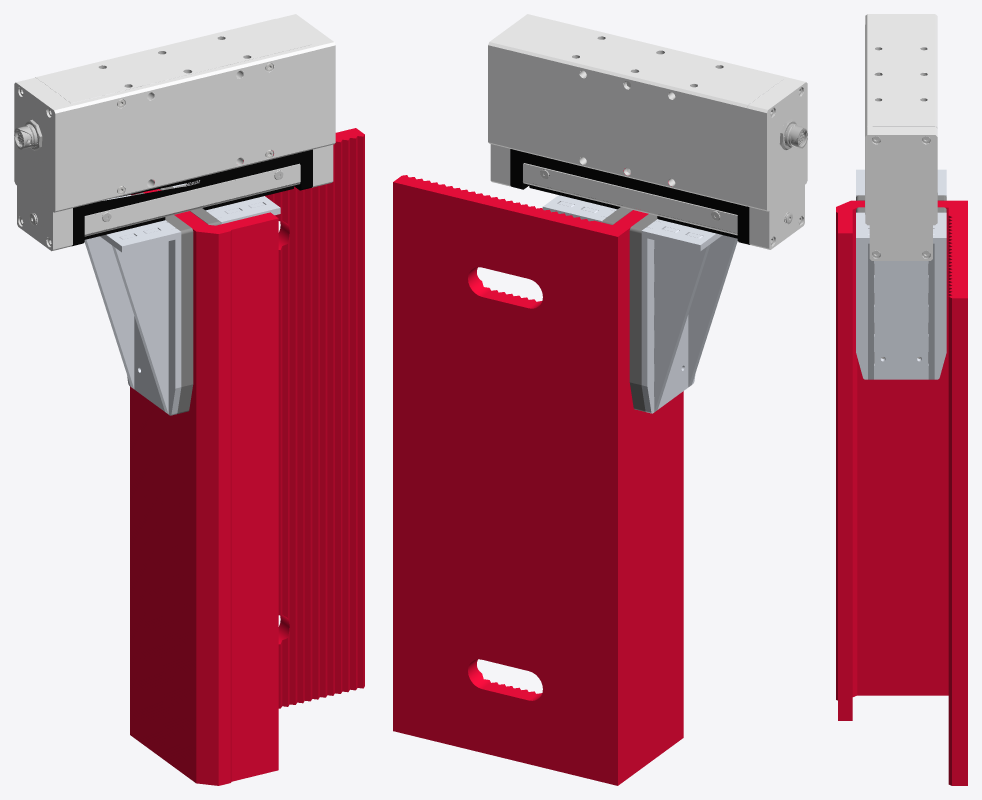
The model's file is RaiseGripper.glb.
The picture shows the model from 3 angles, left to right: view 1: azimuth 30°, elevation 25°; view 2: azimuth 150°, elevation 25°; view 3: azimuth 270°, elevation 25°; orthographic projection. The views are drawn at different scales.
Visible parts, largest first — view 1: P46 JRB Bracket-1.003, XEG-64本體.stp-1.010, Gripper Attachment Base-1.001, Rubber Pad-1.006, Gripper Attachment Base-1.007; view 2: P46 JRB Bracket-1.003, XEG-64本體.stp-1.010, Gripper Attachment Base-1.001, Rubber Pad-1.006, Gripper Attachment Base-1.007; view 3: P46 JRB Bracket-1.003, XEG-64本體.stp-1.010, Gripper Attachment Base-1.007, Gripper Attachment Base-1.001.
Part boxes in pixels (x1,y1,x2,y2): P46 JRB Bracket-1.003: (130,128,364,785); XEG-64本體.stp-1.010: (14,14,335,251); Gripper Attachment Base-1.001: (84,194,181,415); Rubber Pad-1.006: (131,192,193,413); Gripper Attachment Base-1.007: (172,183,280,224); P46 JRB Bracket-1.003: (393,168,683,785); XEG-64本體.stp-1.010: (488,14,807,249); Gripper Attachment Base-1.001: (641,219,737,413); Rubber Pad-1.006: (629,214,657,411); Gripper Attachment Base-1.007: (542,195,617,222); P46 JRB Bracket-1.003: (836,200,967,785); XEG-64本體.stp-1.010: (865,14,937,260); Gripper Attachment Base-1.007: (856,212,946,379); Gripper Attachment Base-1.001: (856,169,946,196).
Bounding box in the file's own units: 0.2525 × 0.4501 × 0.087.
